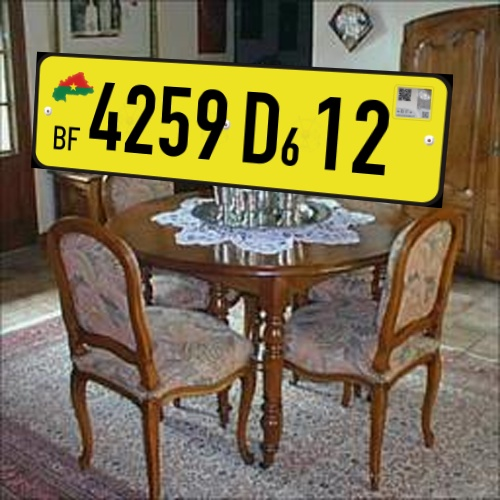plate: (20, 44, 469, 237)
